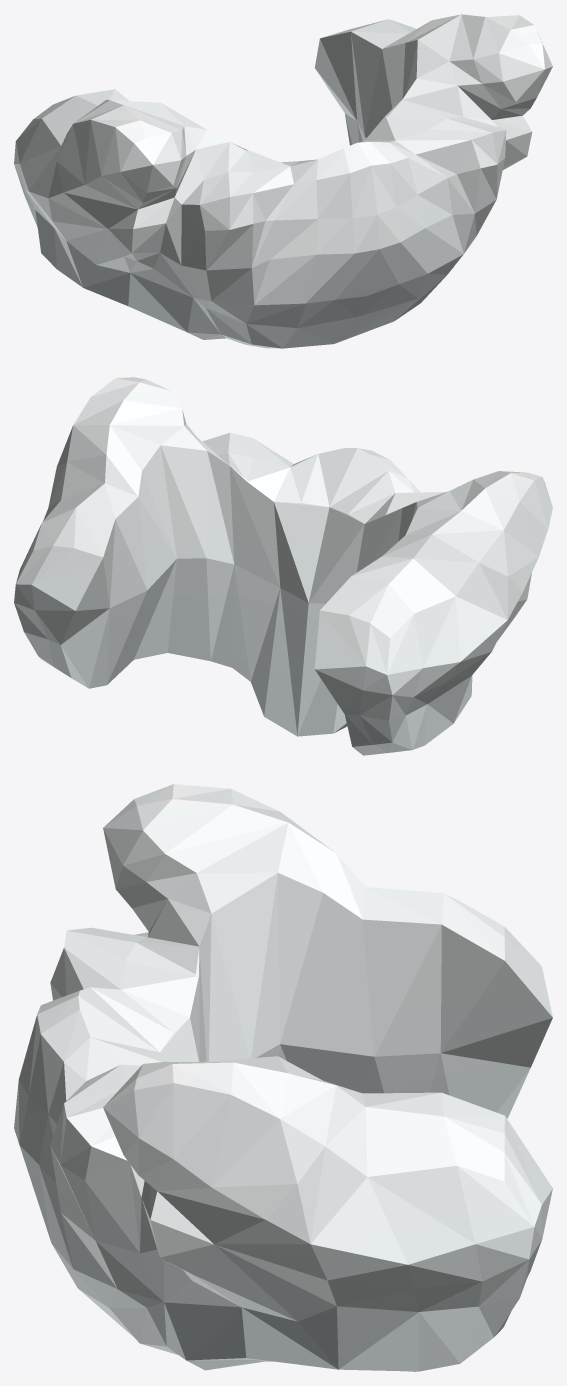
The model's file is CharSkyKid_Hair_AP07Balding_01.glb.
3 views of the same model, one above another, from view 1: azimuth 30°, elevation 25°; view 2: azimuth 150°, elevation 25°; view 3: azimuth 270°, elevation 25° (orthographic). The views are drawn at different scales.
Visible parts, largest first — view 1: CharSkyKid_Hair_AP07Balding_01; view 2: CharSkyKid_Hair_AP07Balding_01; view 3: CharSkyKid_Hair_AP07Balding_01.
Part boxes in pixels (box(x1,y1,x2,y2)): CharSkyKid_Hair_AP07Balding_01: box(14, 14, 552, 348); CharSkyKid_Hair_AP07Balding_01: box(14, 377, 552, 755); CharSkyKid_Hair_AP07Balding_01: box(14, 784, 552, 1371).
Size of the model in its own units: 3.05 by 1.83 by 2.11.
1 material, 1 textured.
